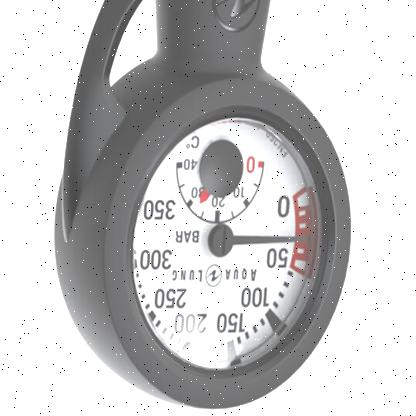needle: (234, 234, 311, 247)
